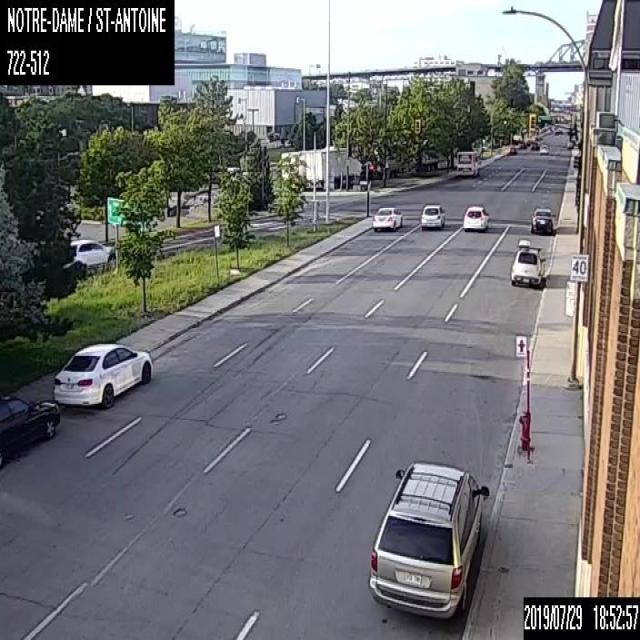vehicle: (366, 459, 491, 624), (52, 341, 152, 409), (0, 390, 59, 471), (306, 146, 362, 188), (509, 238, 545, 288), (70, 236, 115, 275), (371, 204, 403, 232), (530, 205, 556, 234), (462, 203, 488, 232), (420, 200, 444, 231), (456, 148, 479, 176)
